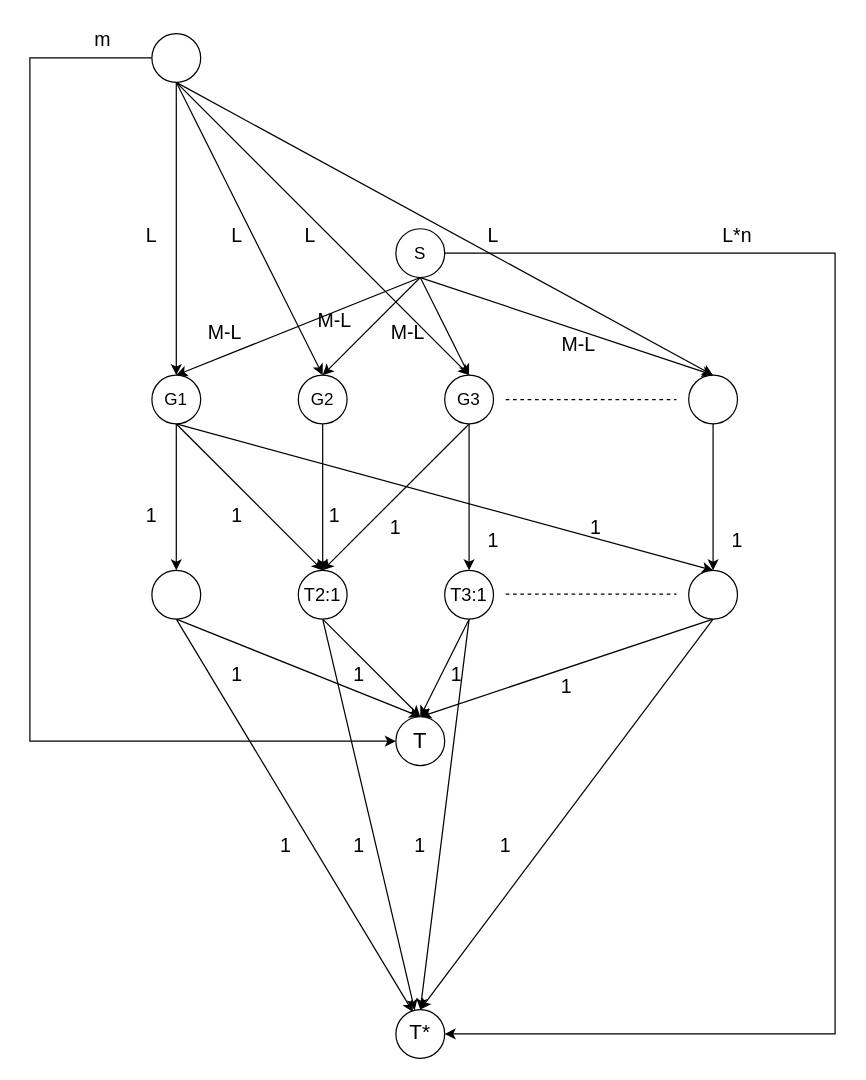
Some shapes in this 866 by 1080 pixel diagram are drawn without their labels. The shapes that lost their labels are listed below. From the top down, each one's centre as x and y in pixels, then its label:
At (176,57): "S*".
At (712,399): "Gn".
At (176,594): "T1:1".
At (712,594): "Tm:1".
